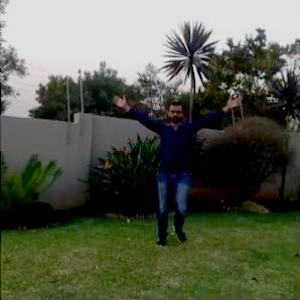takeoff: (110, 94, 260, 248)
